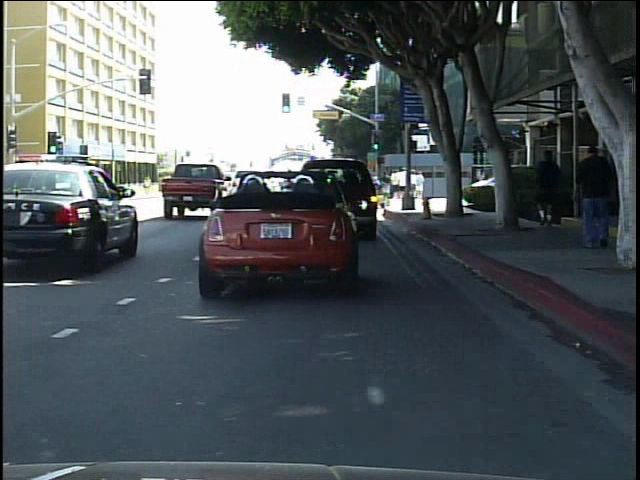person: (569, 139, 619, 258), (528, 146, 570, 236), (142, 174, 156, 199)
